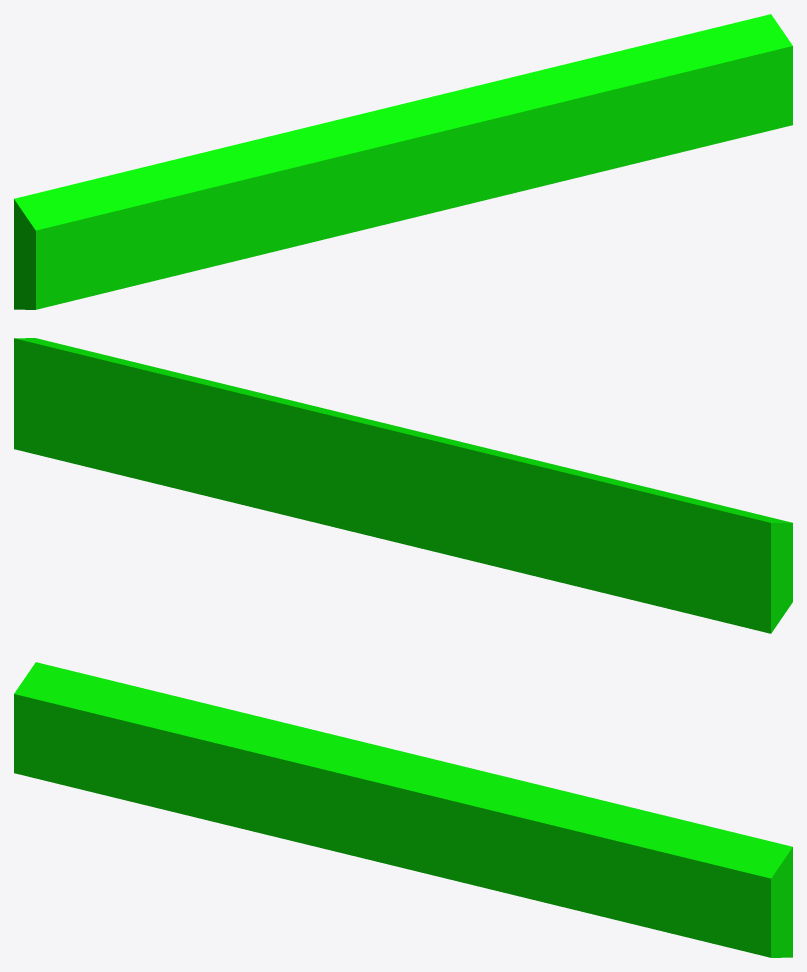
File: SM_Wall_Deco_Wood_Line_1m.fbx
3 views of the same model, one above another, from view 1: azimuth 30°, elevation 25°; view 2: azimuth 150°, elevation 25°; view 3: azimuth 330°, elevation 25° (orthographic).
Visible parts, largest first — view 1: wall-deco-wood-line-1m; view 2: wall-deco-wood-line-1m; view 3: wall-deco-wood-line-1m.
Boxes of the visible parts, <box> form: wall-deco-wood-line-1m: <box>14,14,792,309</box>; wall-deco-wood-line-1m: <box>14,338,792,633</box>; wall-deco-wood-line-1m: <box>14,662,792,957</box>.
Size of the model in its own units: 1 by 0.14 by 0.05.
